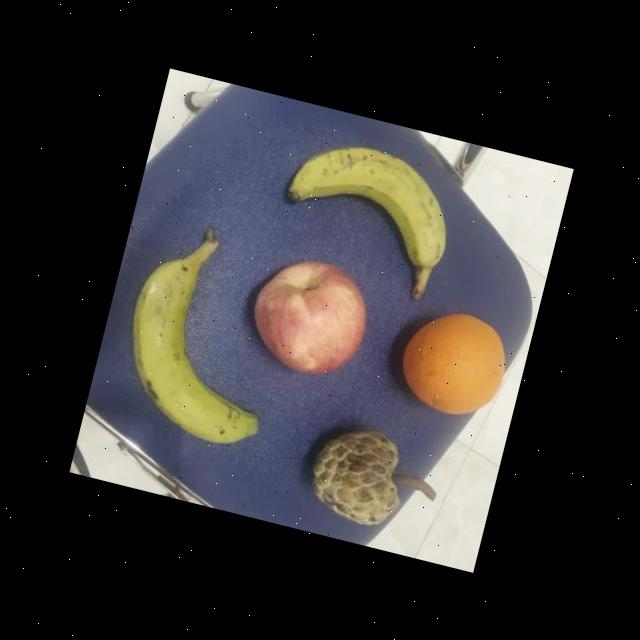Sakya fruit: (296, 414, 414, 532)
apple: (228, 234, 385, 388)
banana: (103, 216, 304, 457), (271, 128, 464, 304)
orange: (386, 300, 518, 428)
